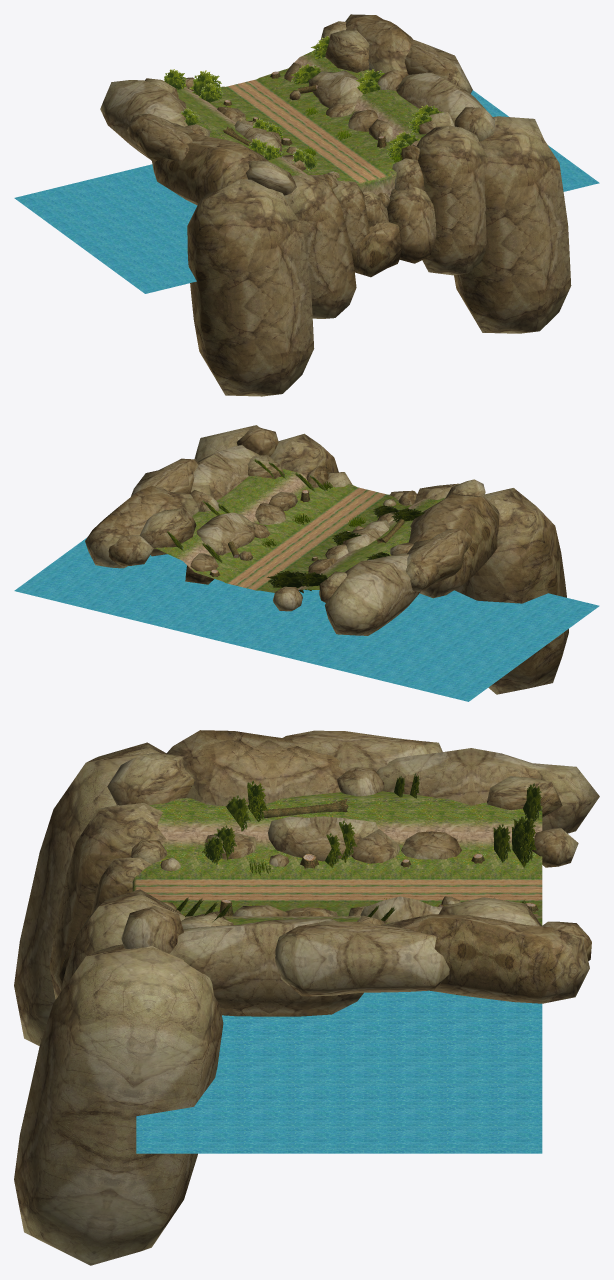
File: BikeRoad01.FBX
3 views of the same model, one above another, from view 1: azimuth 30°, elevation 25°; view 2: azimuth 150°, elevation 25°; view 3: azimuth 270°, elevation 25° (orthographic). The views are drawn at different scales.
Visible parts, largest first — view 1: Rock (×20), Wave, Ground; view 2: Rock (×23), Wave, Ground, GrassPlane; view 3: Rock (×21), Wave, Ground, GrassPlane, Log.
Part boxes in pixels (x1=…): Rock (×20): x1=100, y1=14, x2=571, y2=396; Wave: x1=14, y1=90, x2=599, y2=293; Ground: x1=177, y1=50, x2=425, y2=196; Rock (×23): x1=85, y1=425, x2=568, y2=694; Wave: x1=14, y1=538, x2=599, y2=701; Ground: x1=154, y1=469, x2=445, y2=592; GrassPlane: x1=267, y1=570, x2=311, y2=593; Rock (×21): x1=14, y1=730, x2=599, y2=1265; Wave: x1=136, y1=990, x2=542, y2=1153; Ground: x1=132, y1=791, x2=542, y2=925; GrassPlane: x1=511, y1=814, x2=536, y2=867; Log: x1=260, y1=798, x2=348, y2=818.
Size of the model in its own units: 8000 by 3675 by 5775.
